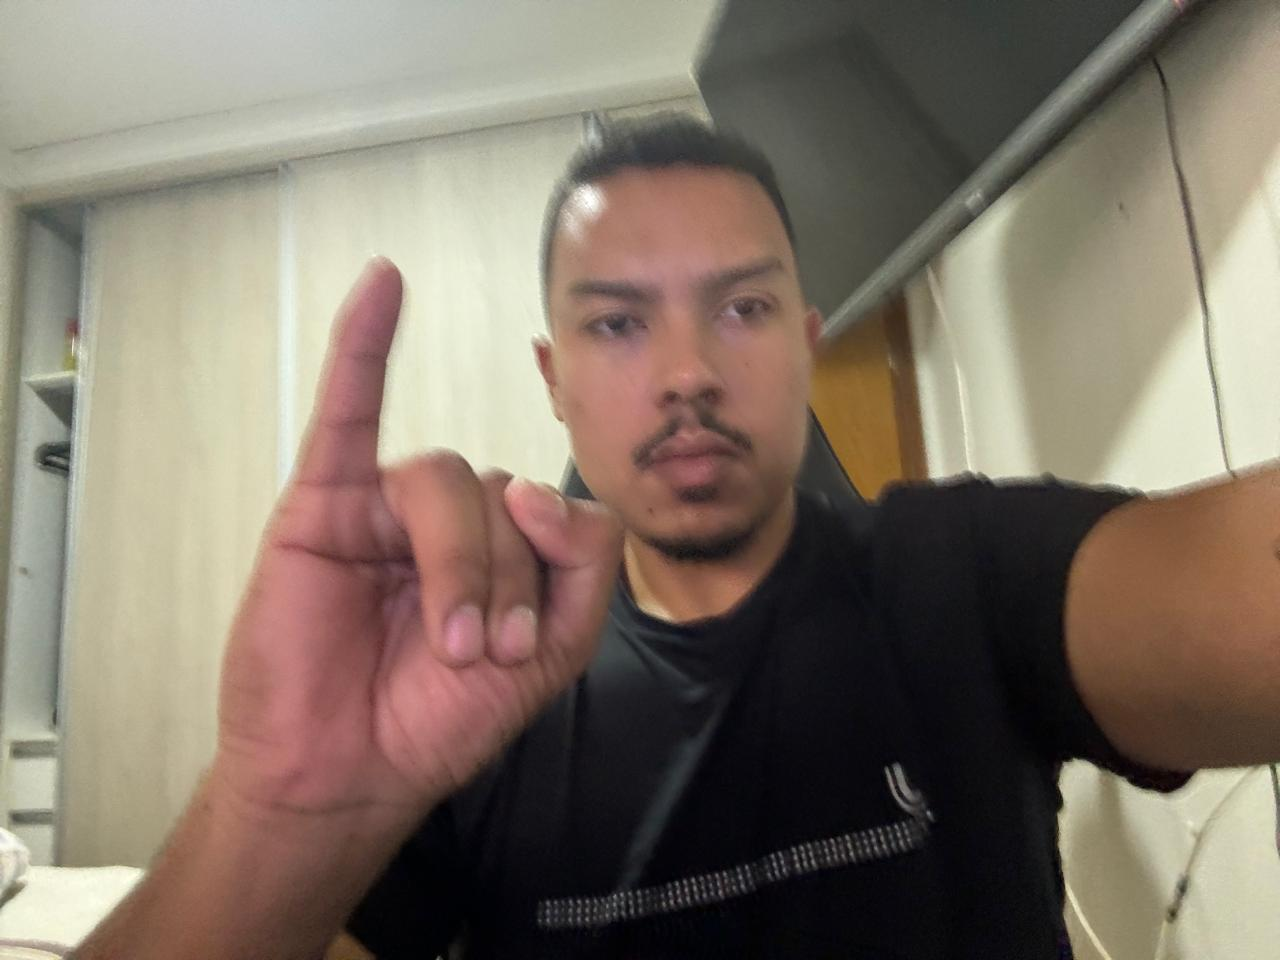i: (206, 240, 630, 842)
